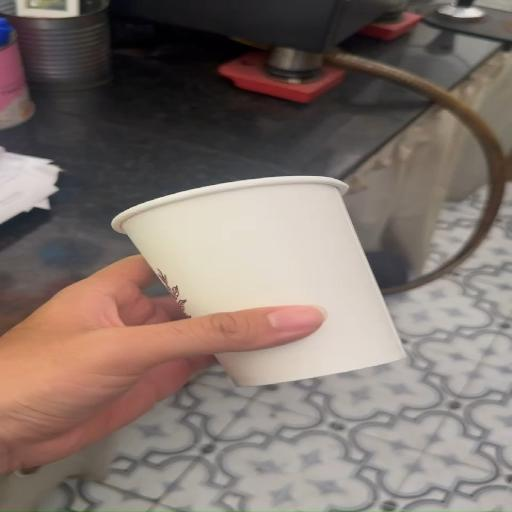Ly_giay: (112, 176, 403, 385)
